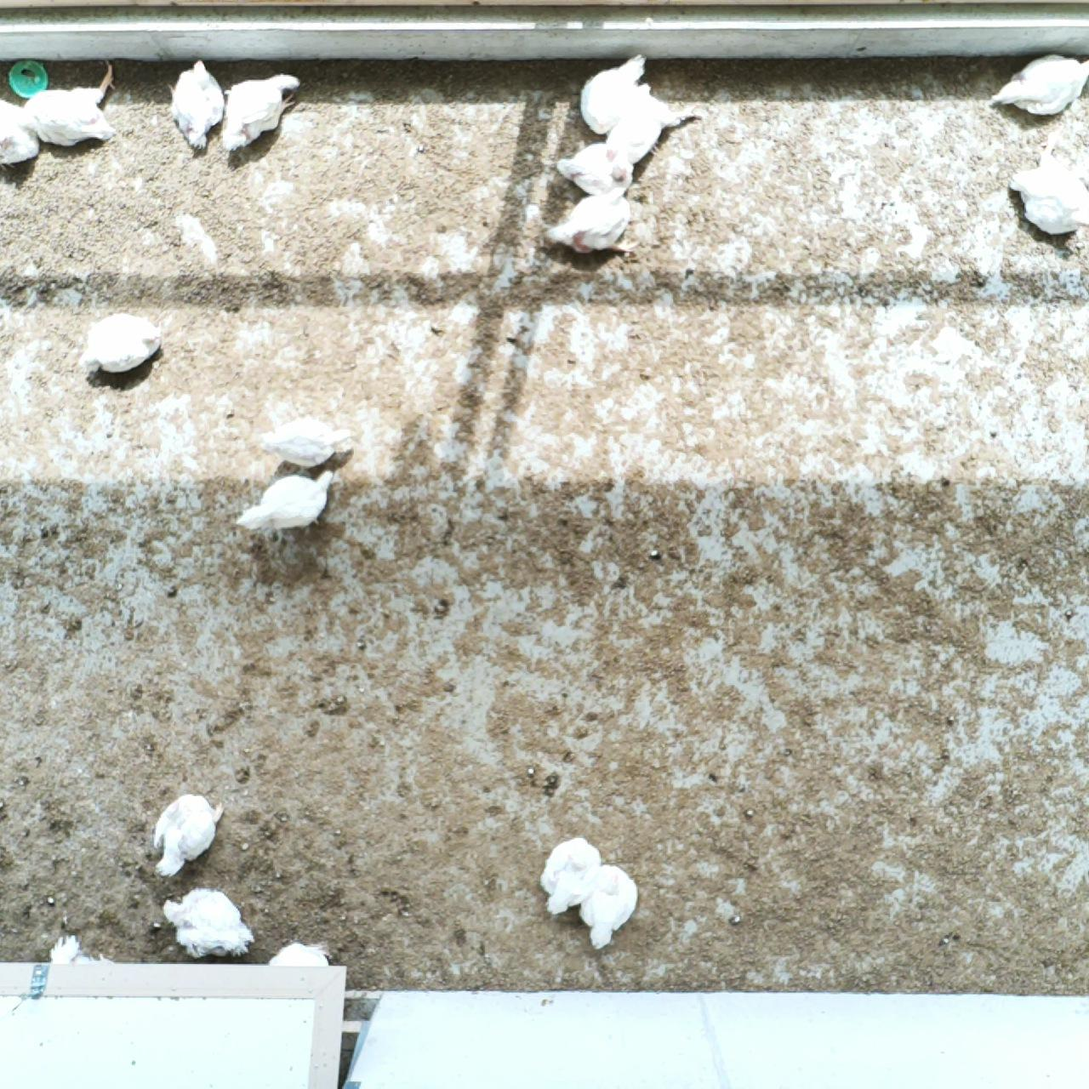chicken: (18, 58, 120, 147), (607, 97, 704, 168), (1012, 146, 1089, 235), (547, 186, 640, 257), (222, 72, 302, 152), (238, 469, 337, 533), (988, 53, 1089, 114), (165, 888, 254, 956), (153, 795, 224, 876), (75, 312, 163, 377), (578, 53, 650, 132), (166, 59, 227, 148), (258, 411, 354, 465), (539, 834, 602, 912), (584, 864, 640, 949), (559, 141, 636, 197), (0, 94, 42, 169), (46, 932, 116, 965), (267, 942, 335, 968)
